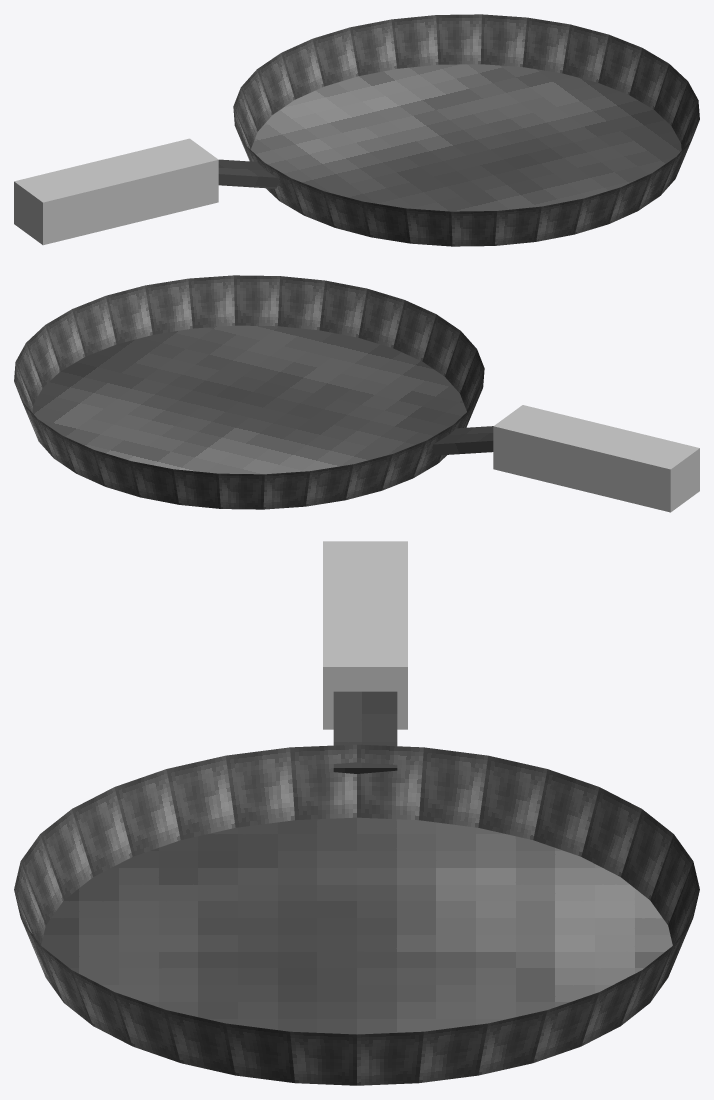
File: frying_pan.obj
3 renders of one model, top to bottom at view 1: azimuth 30°, elevation 25°; view 2: azimuth 150°, elevation 25°; view 3: azimuth 270°, elevation 25°, orthographic. The views are drawn at different scales.
Visible parts, largest first — view 1: 柱体.001, Box062.002, Box063.002; view 2: 柱体.001, Box062.002, Box063.002; view 3: 柱体.001, Box062.002, Box063.002.
Part boxes in pixels (x1,y1,x2,y2): 柱体.001: (233,14,699,246); Box062.002: (14,138,218,245); Box063.002: (218,159,278,188); 柱体.001: (14,275,484,509); Box062.002: (493,405,699,512); Box063.002: (432,426,493,455); 柱体.001: (14,744,699,1085); Box062.002: (323,541,407,729); Box063.002: (333,691,397,773).
Bounding box in the file's own units: 1.57 × 0.1592 × 1.
